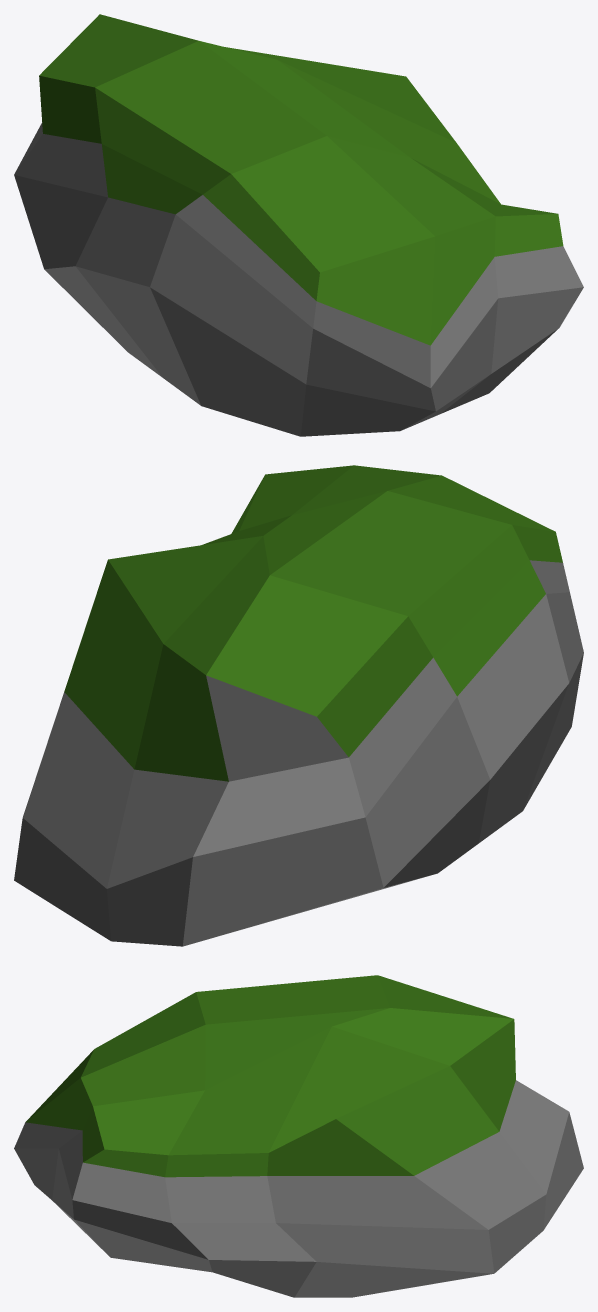
File: rock 1 .fbx
The picture shows the model from 3 angles, top to bottom: view 1: azimuth 30°, elevation 25°; view 2: azimuth 150°, elevation 25°; view 3: azimuth 270°, elevation 25°; orthographic projection. The views are drawn at different scales.
Parts seen in each view (by area): view 1: Cube; view 2: Cube; view 3: Cube.
Part boxes in pixels (box(x1,y1,x2,y2)): Cube: box(14, 14, 583, 436); Cube: box(14, 465, 583, 946); Cube: box(14, 975, 583, 1297).
Size of the model in its own units: 314 by 200 by 485.
